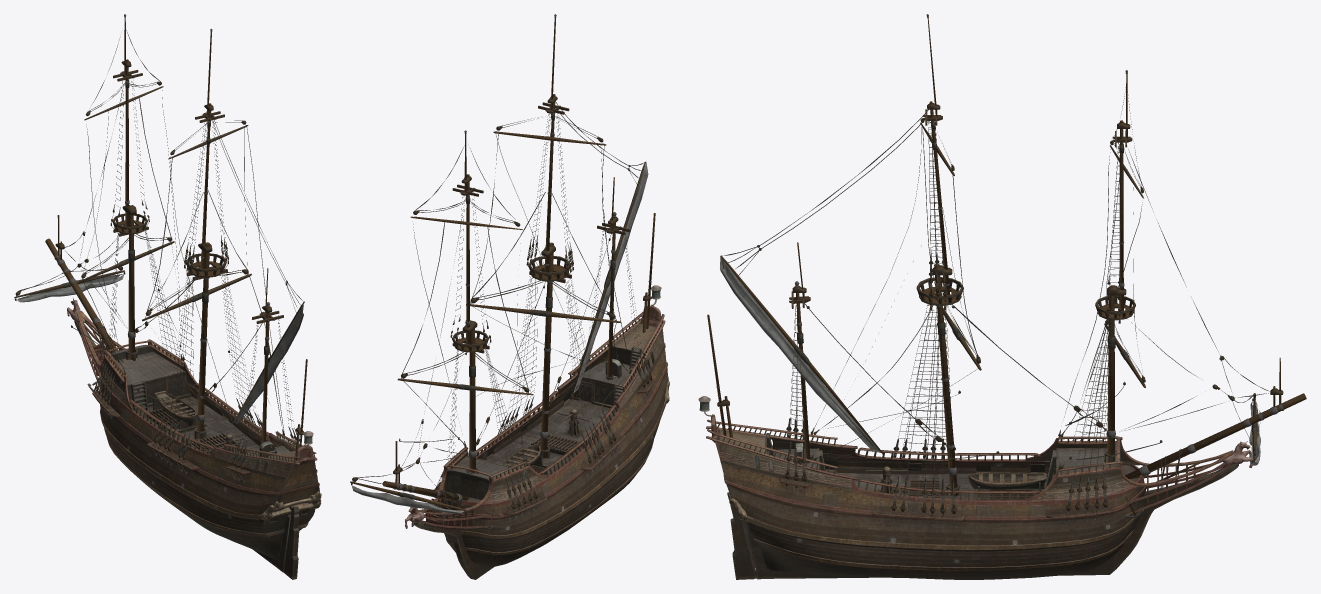
File: dutch_ship_medium.glb
3 views of the same model, side by side, from view 1: azimuth 30°, elevation 25°; view 2: azimuth 150°, elevation 25°; view 3: azimuth 270°, elevation 25° (orthographic). The views are drawn at different scales.
Parts seen in each view (by area): view 1: dutch_ship_medium_hull, dutch_ship_medium_rigging; view 2: dutch_ship_medium_hull, dutch_ship_medium_rigging; view 3: dutch_ship_medium_hull, dutch_ship_medium_rigging.
Boxes of the visible parts, x1,y1,x2,y2 form: dutch_ship_medium_hull: (67, 298, 321, 579); dutch_ship_medium_rigging: (14, 14, 307, 483); dutch_ship_medium_hull: (405, 285, 669, 579); dutch_ship_medium_rigging: (350, 14, 655, 531); dutch_ship_medium_hull: (698, 396, 1252, 579); dutch_ship_medium_rigging: (707, 14, 1306, 529).
Size of the model in its own units: 8.49 by 30.74 by 30.
2 materials, 2 textured.
